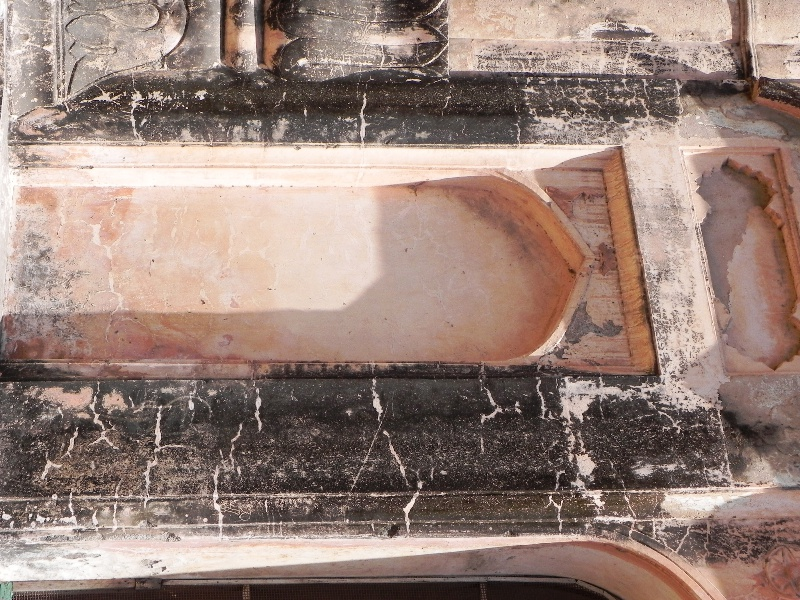Spalling: (694, 150, 774, 315)
